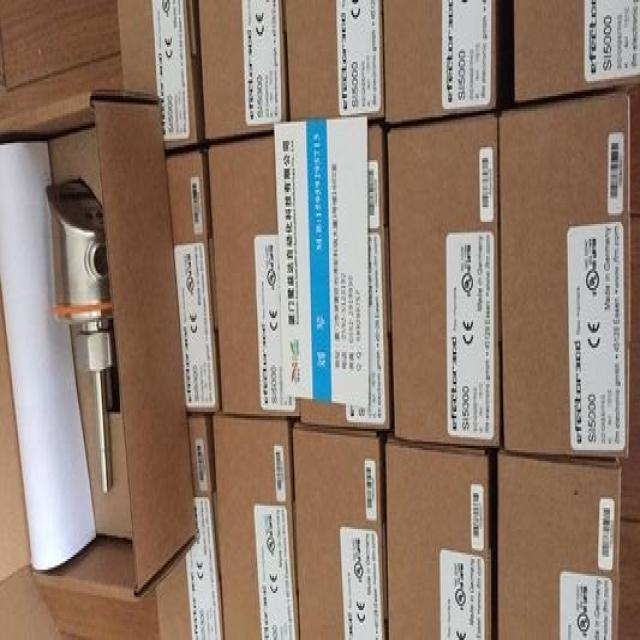box: (0, 90, 198, 640), (498, 90, 630, 457), (387, 113, 500, 448), (299, 124, 390, 431), (209, 134, 299, 416), (498, 452, 622, 640), (385, 433, 491, 640), (293, 422, 389, 640), (213, 414, 300, 640), (156, 416, 223, 640), (166, 149, 222, 416), (383, 0, 497, 124), (514, 0, 640, 102), (118, 0, 203, 151)
